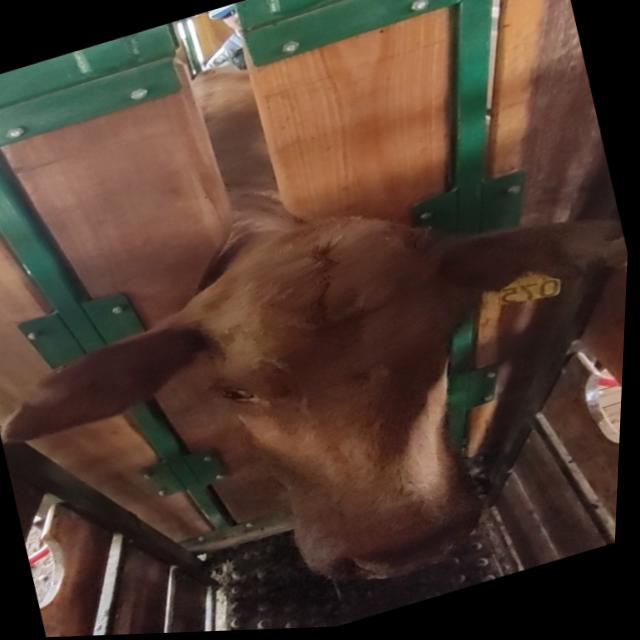cowFace: (168, 189, 533, 626)
